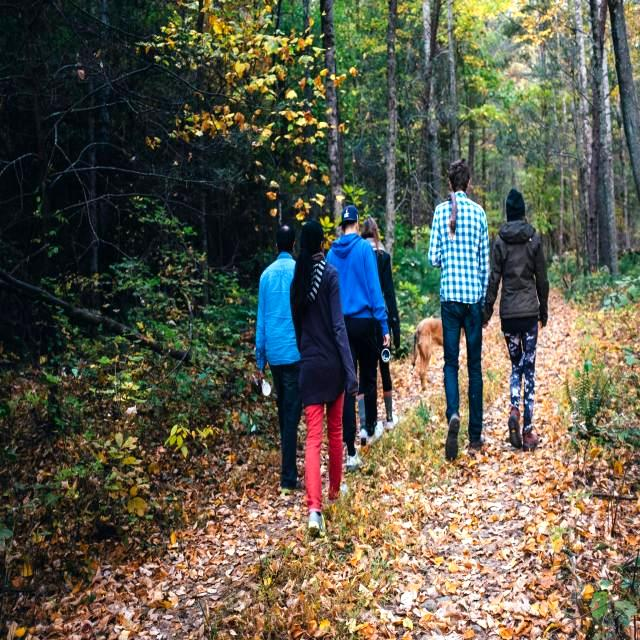no_hard_hat: (506, 188, 525, 222), (340, 205, 359, 224)
no_head_wear: (446, 159, 470, 192), (300, 220, 324, 244), (276, 225, 295, 244), (361, 217, 379, 236)
person: (291, 221, 354, 534), (429, 159, 490, 460), (483, 188, 549, 450), (255, 225, 301, 491), (329, 206, 377, 440), (361, 217, 400, 349)
